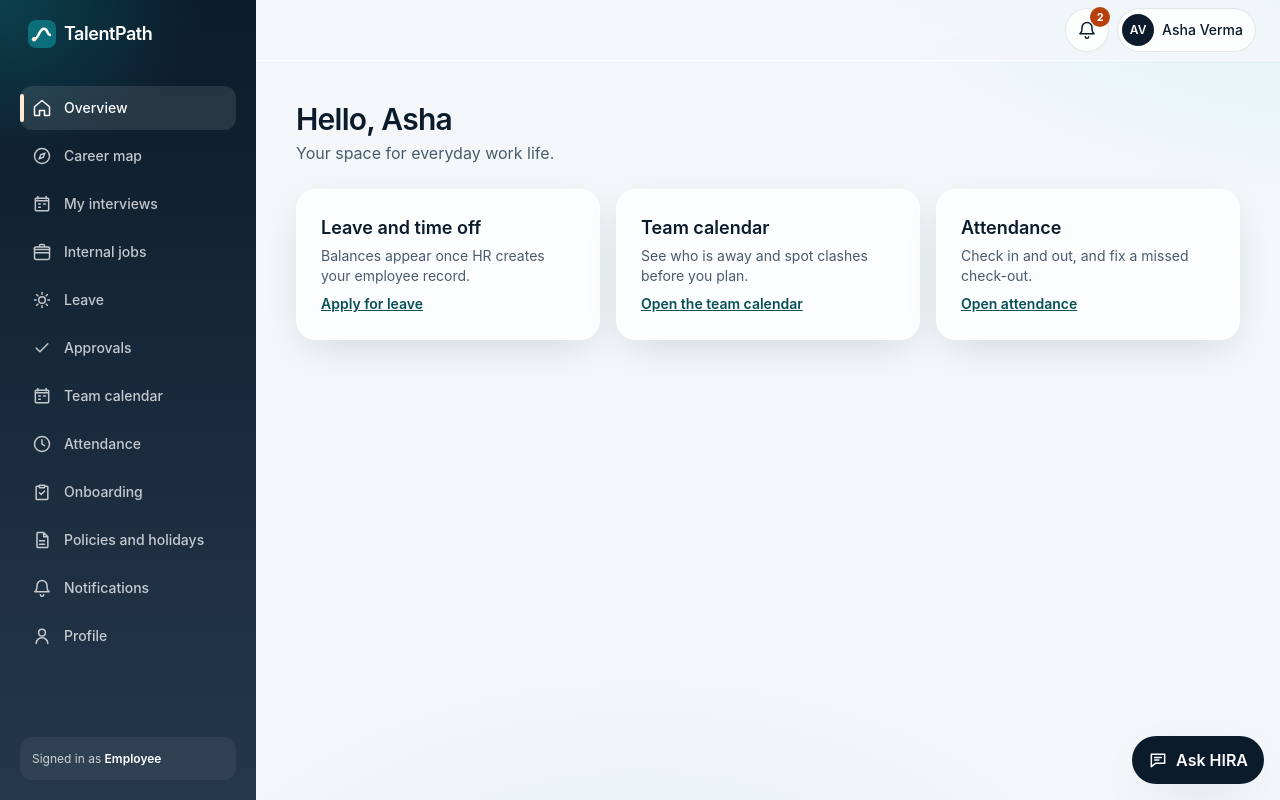
shared sidebar layout › profile menu has exactly Profile and Log out
Click the button named "account menu".
click(1187, 30)  # box [1117, 8, 1256, 52]
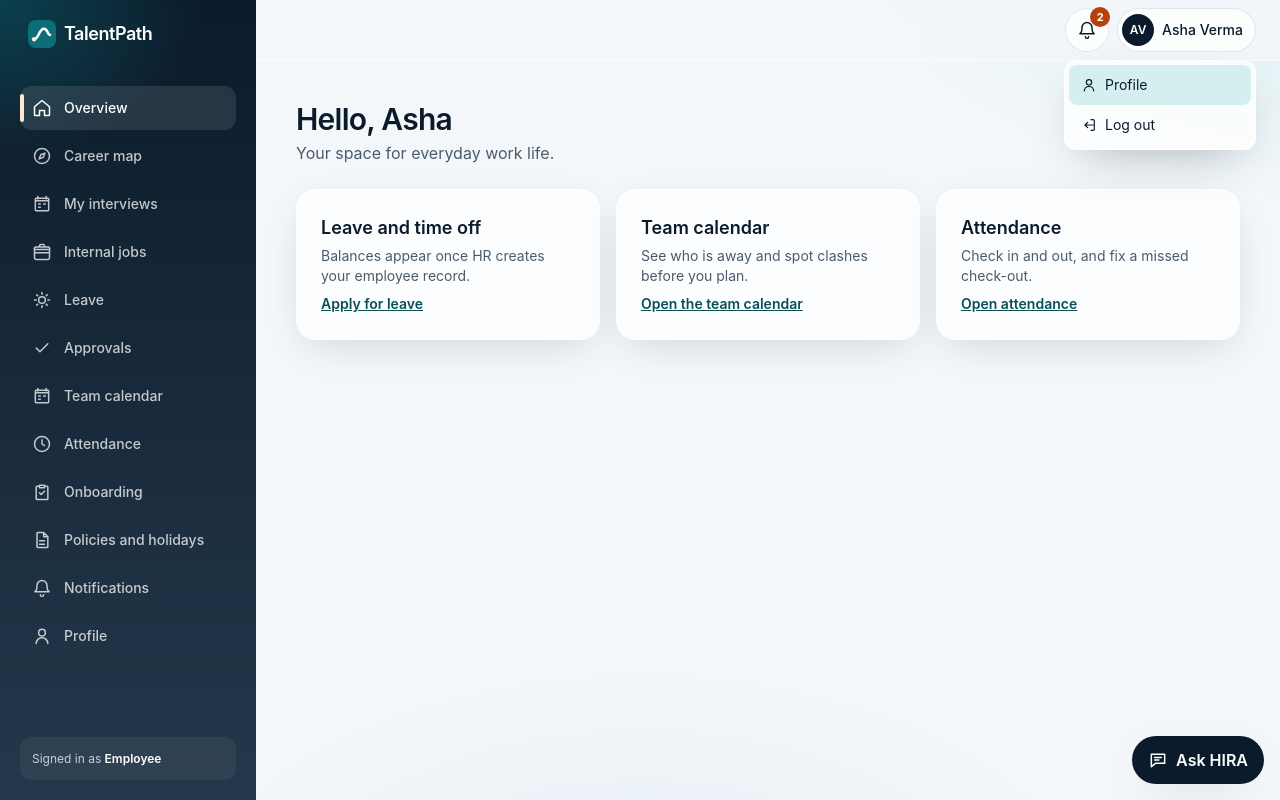
Now the menu items read "Profile", "Log out", in this order, box [1069, 65, 1251, 105]; [1069, 105, 1251, 145]
Press Escape
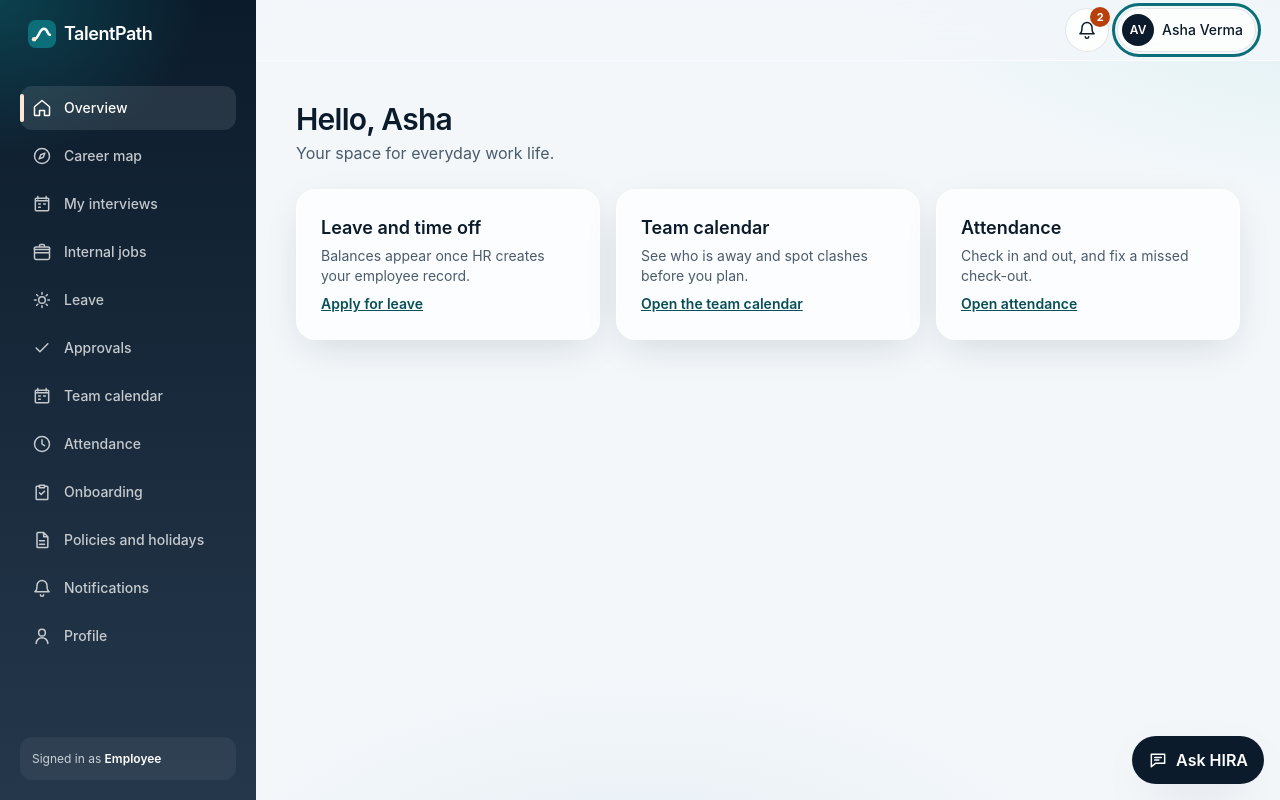
Now the menu is gone
